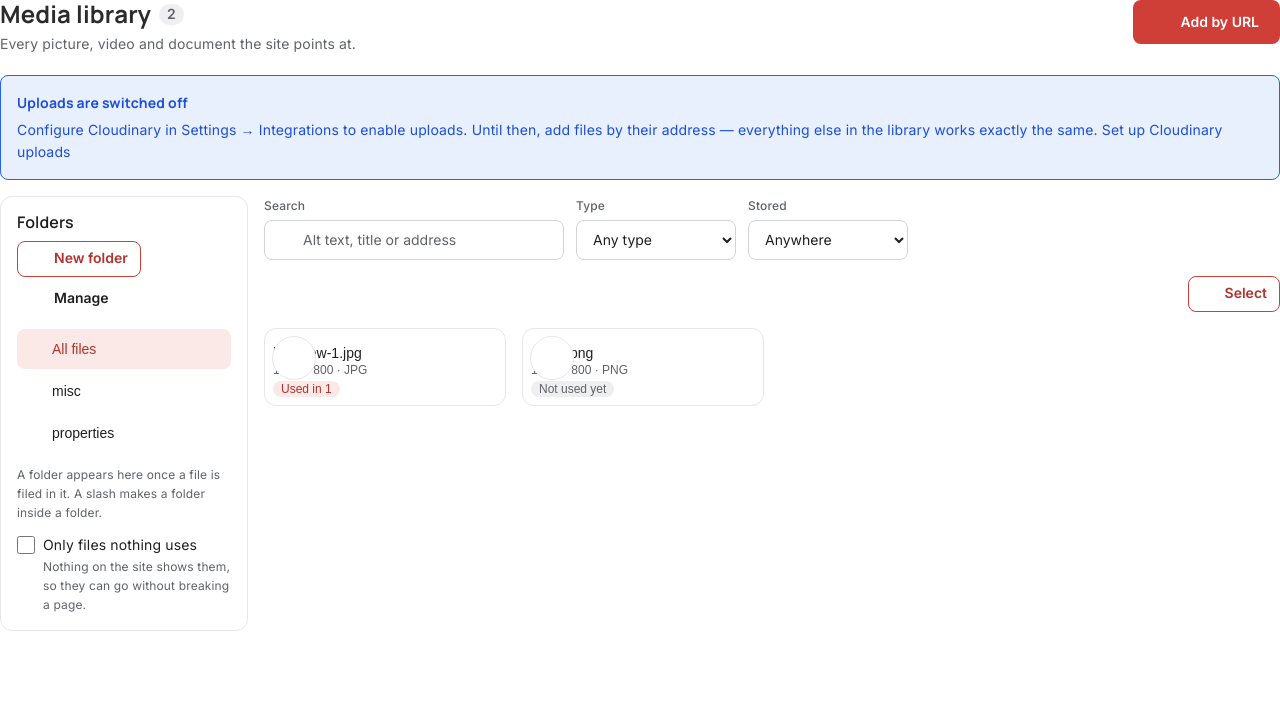
Test case: deleting › is blocked when the file is in use, and lists where (§5, §7)
The image size is (1280, 720).
Click the button "lakeview-1.jpg 1200 × 800 · JPG Used in 1" at (385, 366), box x1=264 y1=328 x2=506 y2=406
(page scrolled)
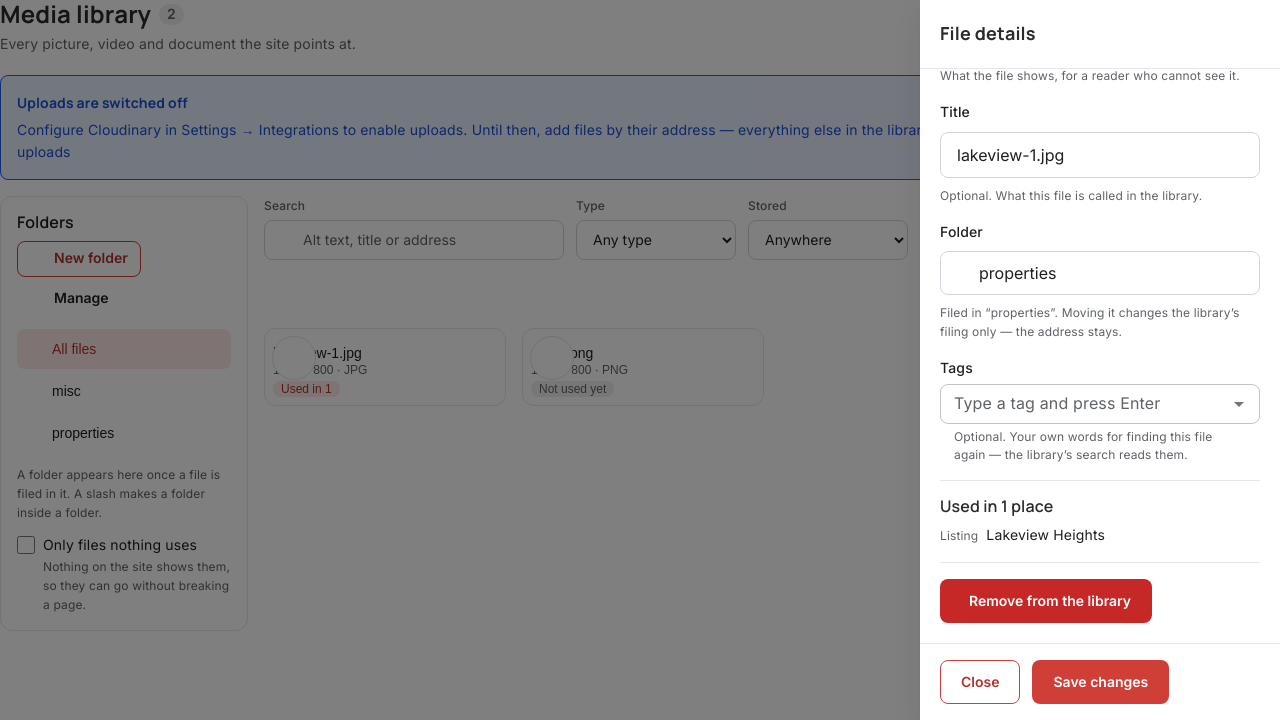
Click the button "Remove from the library" at (1046, 601), box x1=940 y1=579 x2=1152 y2=623
(page scrolled)
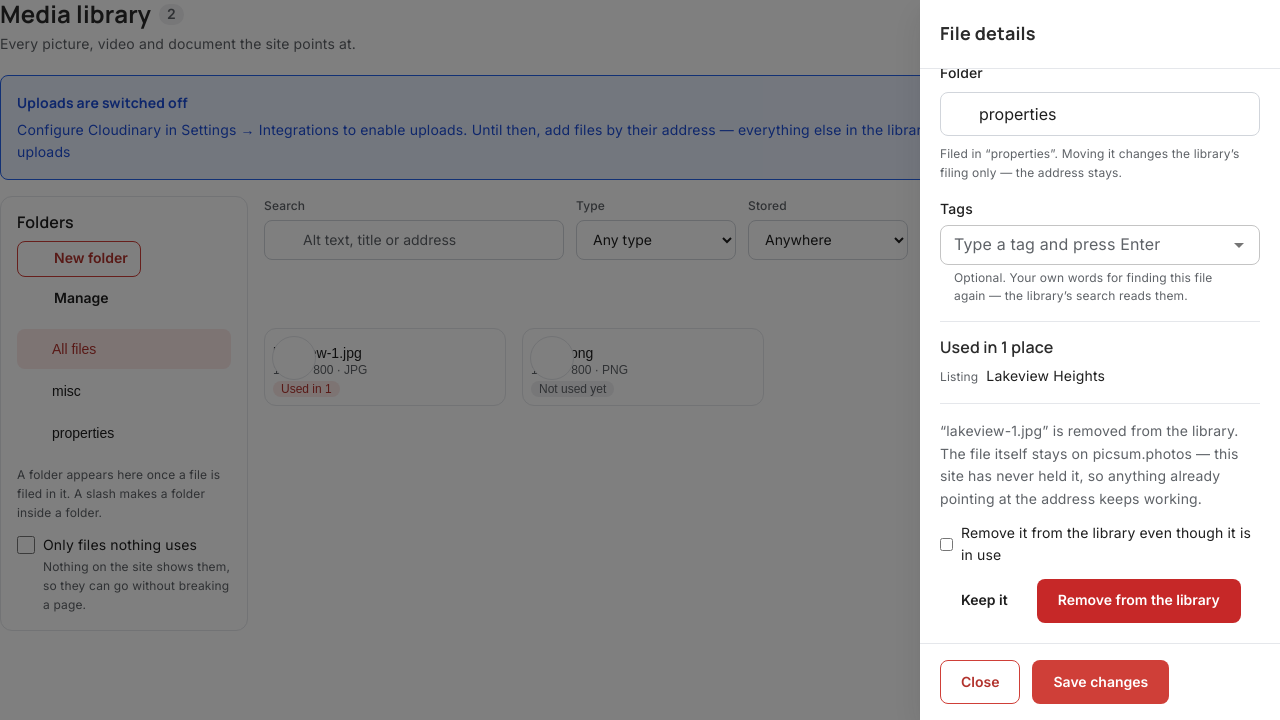
Click the button "Remove from the library" at (1139, 601), box x1=1037 y1=579 x2=1241 y2=623
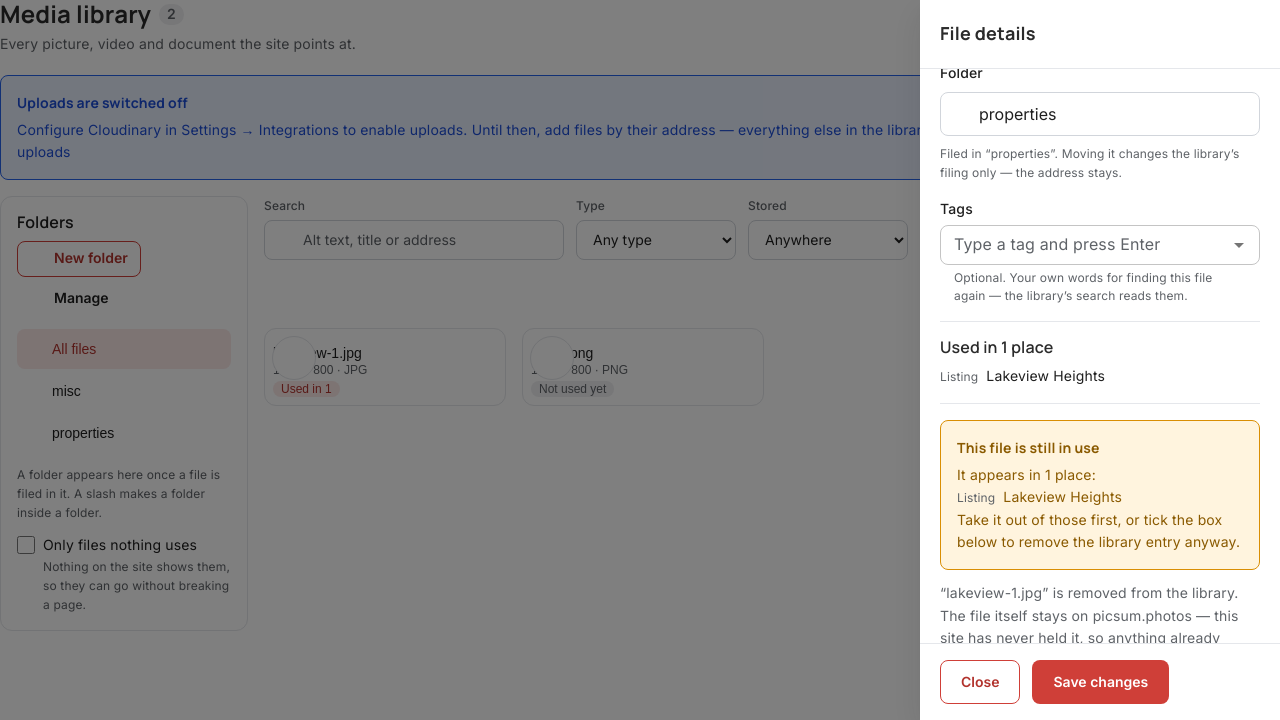
Result: the text "This file is still in use" is shown at x1=957 y1=438 x2=1100 y2=457
